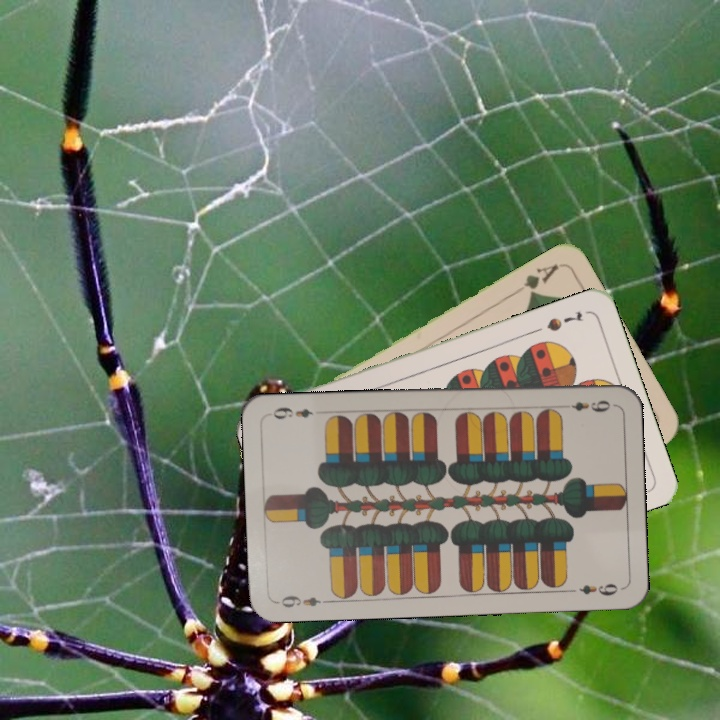E9: (273, 591, 332, 610), (567, 396, 613, 415)
GA: (519, 259, 561, 299)
S7: (543, 307, 586, 334)
